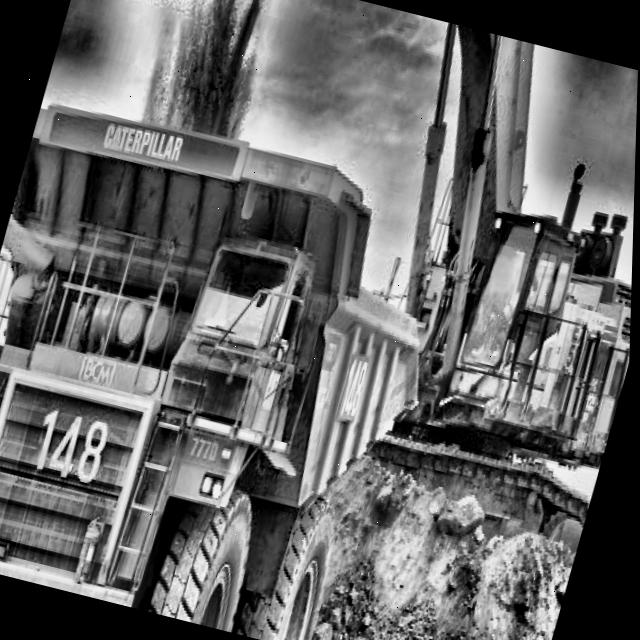dump_truck: (0, 86, 483, 640)
excavator: (0, 0, 640, 592)
